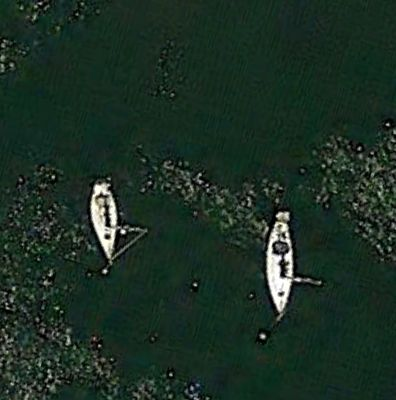boat: (262, 215, 297, 320), (87, 179, 126, 266)
